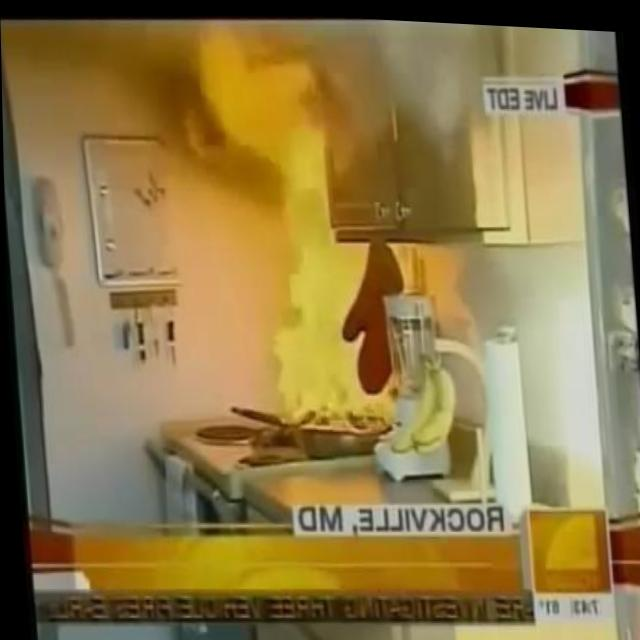fire: (182, 12, 331, 246), (260, 232, 418, 429)
